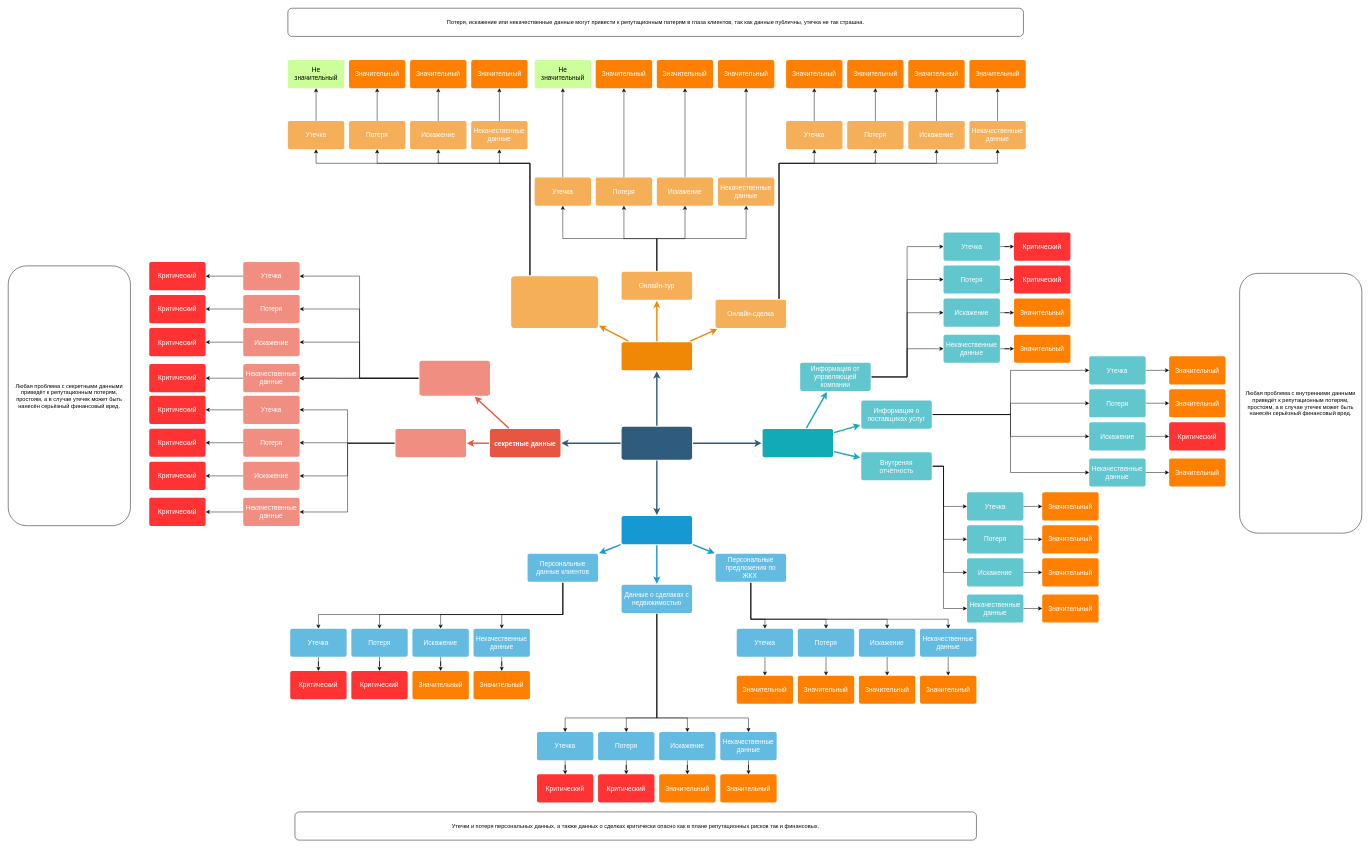
Image size: 1370x848. Some labels were removed from this diagram. The shapes that lost their labels are listed below. From the top down, each one's centre as x and y in pixels, then its label:
At (554,302): "Онлайн-витрина для подбора и бронирования недвижимости из фонда".
At (656,356): "публичные данные".
At (454,378): "Данные аутентификации сервисов и сертификаты".
At (430,443): "Данные взаимдействия с партнёрами".
At (656,443): "Безопастность данных".
At (797,443): "внутренние данные".
At (656,530): "конфиденциальные данные".
